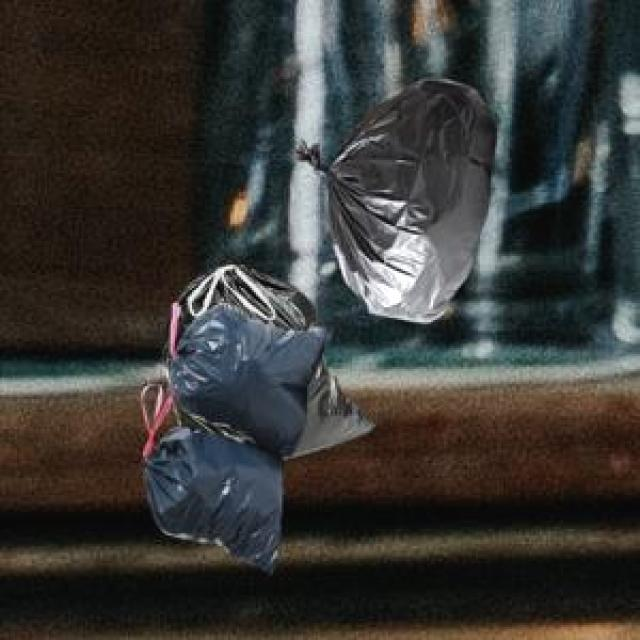Trashbag: (328, 91, 504, 319), (188, 312, 313, 449), (153, 439, 290, 555)
